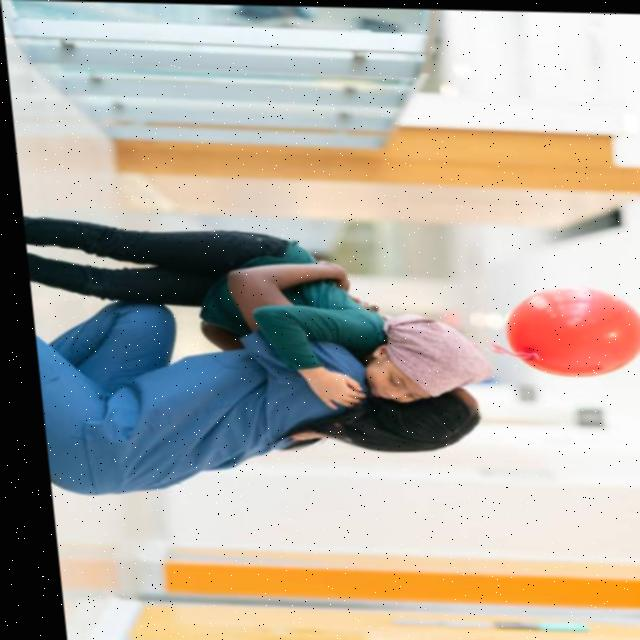balloon: (488, 281, 640, 383)
